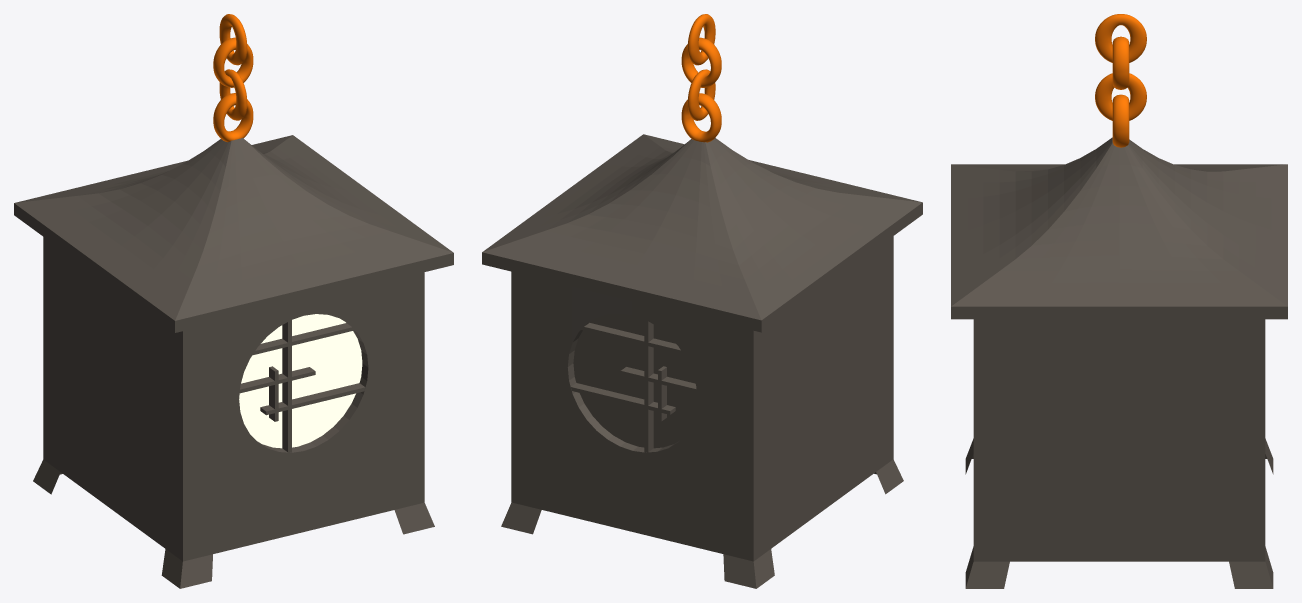
The model's file is Lantern2.fbx.
3 views of the same model, side by side, from view 1: azimuth 30°, elevation 25°; view 2: azimuth 150°, elevation 25°; view 3: azimuth 270°, elevation 25° (orthographic). The views are drawn at different scales.
Parts seen in each view (by area): view 1: Lantern2, Chain2; view 2: Lantern2, Chain2; view 3: Lantern2, Chain2.
Part boxes in pixels (x1=…): Lantern2: x1=14, y1=135, x2=453, y2=588; Chain2: x1=213, y1=14, x2=253, y2=142; Lantern2: x1=482, y1=134, x2=922, y2=588; Chain2: x1=681, y1=14, x2=721, y2=142; Lantern2: x1=951, y1=137, x2=1287, y2=588; Chain2: x1=1095, y1=14, x2=1146, y2=147.
Size of the model in its own units: 47.29 by 78.99 by 47.29.
